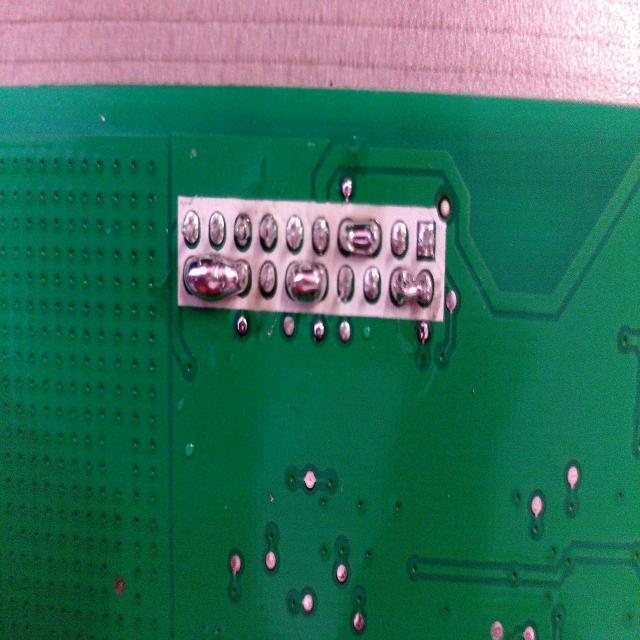Soldering shorted: (180, 255, 254, 302), (284, 258, 330, 308), (338, 211, 382, 262), (387, 266, 438, 306)
